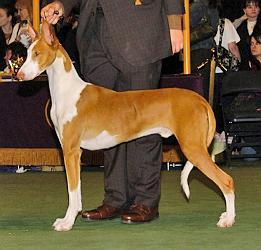Ibizan_hound: (13, 16, 237, 231)
